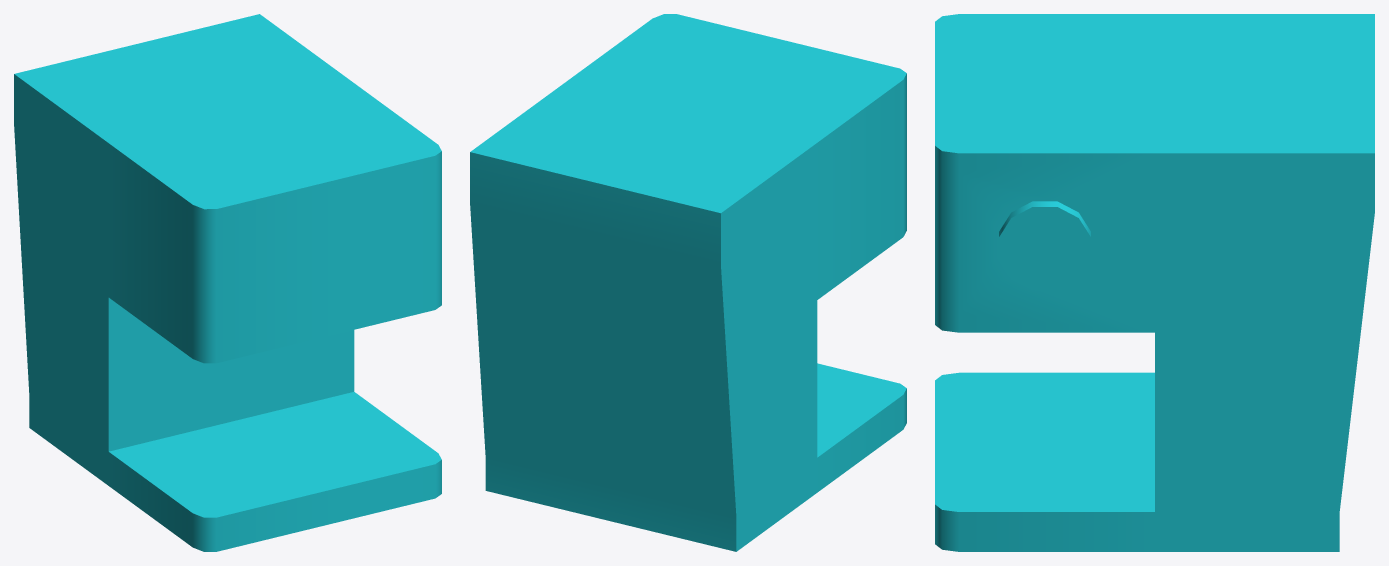
Rendered from Coffeemaker.fbx.
3 views of the same model, side by side, from view 1: azimuth 30°, elevation 25°; view 2: azimuth 150°, elevation 25°; view 3: azimuth 270°, elevation 25° (orthographic). The views are drawn at different scales.
Parts seen in each view (by area): view 1: Coffemaker; view 2: Coffemaker; view 3: Coffemaker.
Part boxes in pixels (x1,y1,x2,y2): Coffemaker: [14, 14, 441, 551]; Coffemaker: [470, 14, 906, 551]; Coffemaker: [935, 14, 1374, 551].
Bounding box in the file's own units: 39 × 50 × 50.
